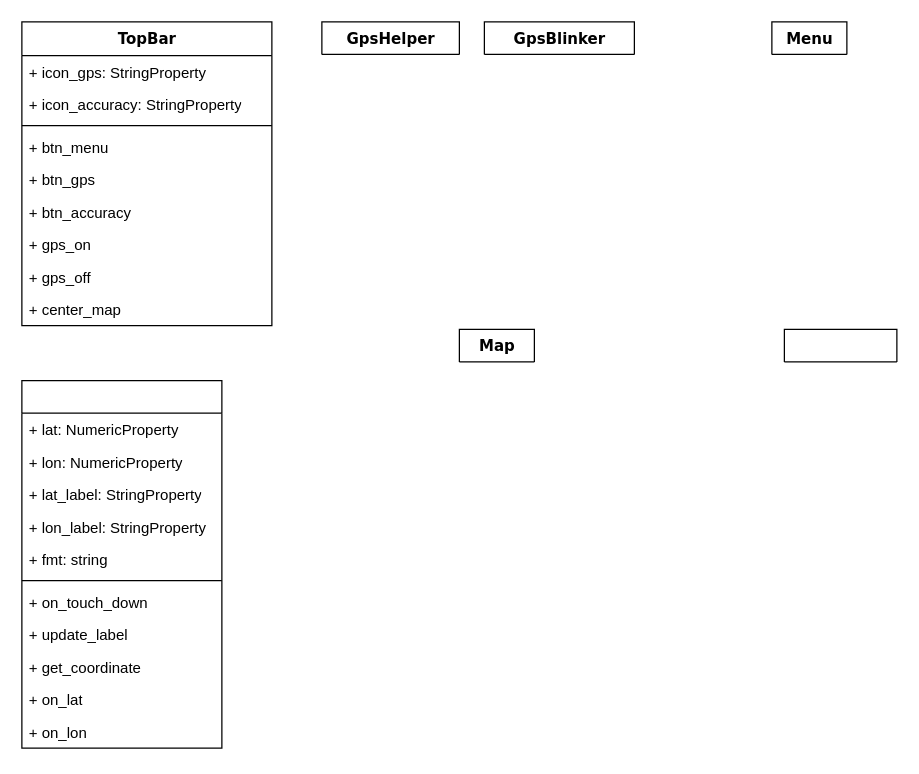
This 919x774 diagram has some shape labels left out. The box of each missing label's shape, as (x1, y1, x2, y2) in pixels:
LatLonLabel: (21, 379, 222, 748)
Settings (?): (783, 328, 897, 362)
